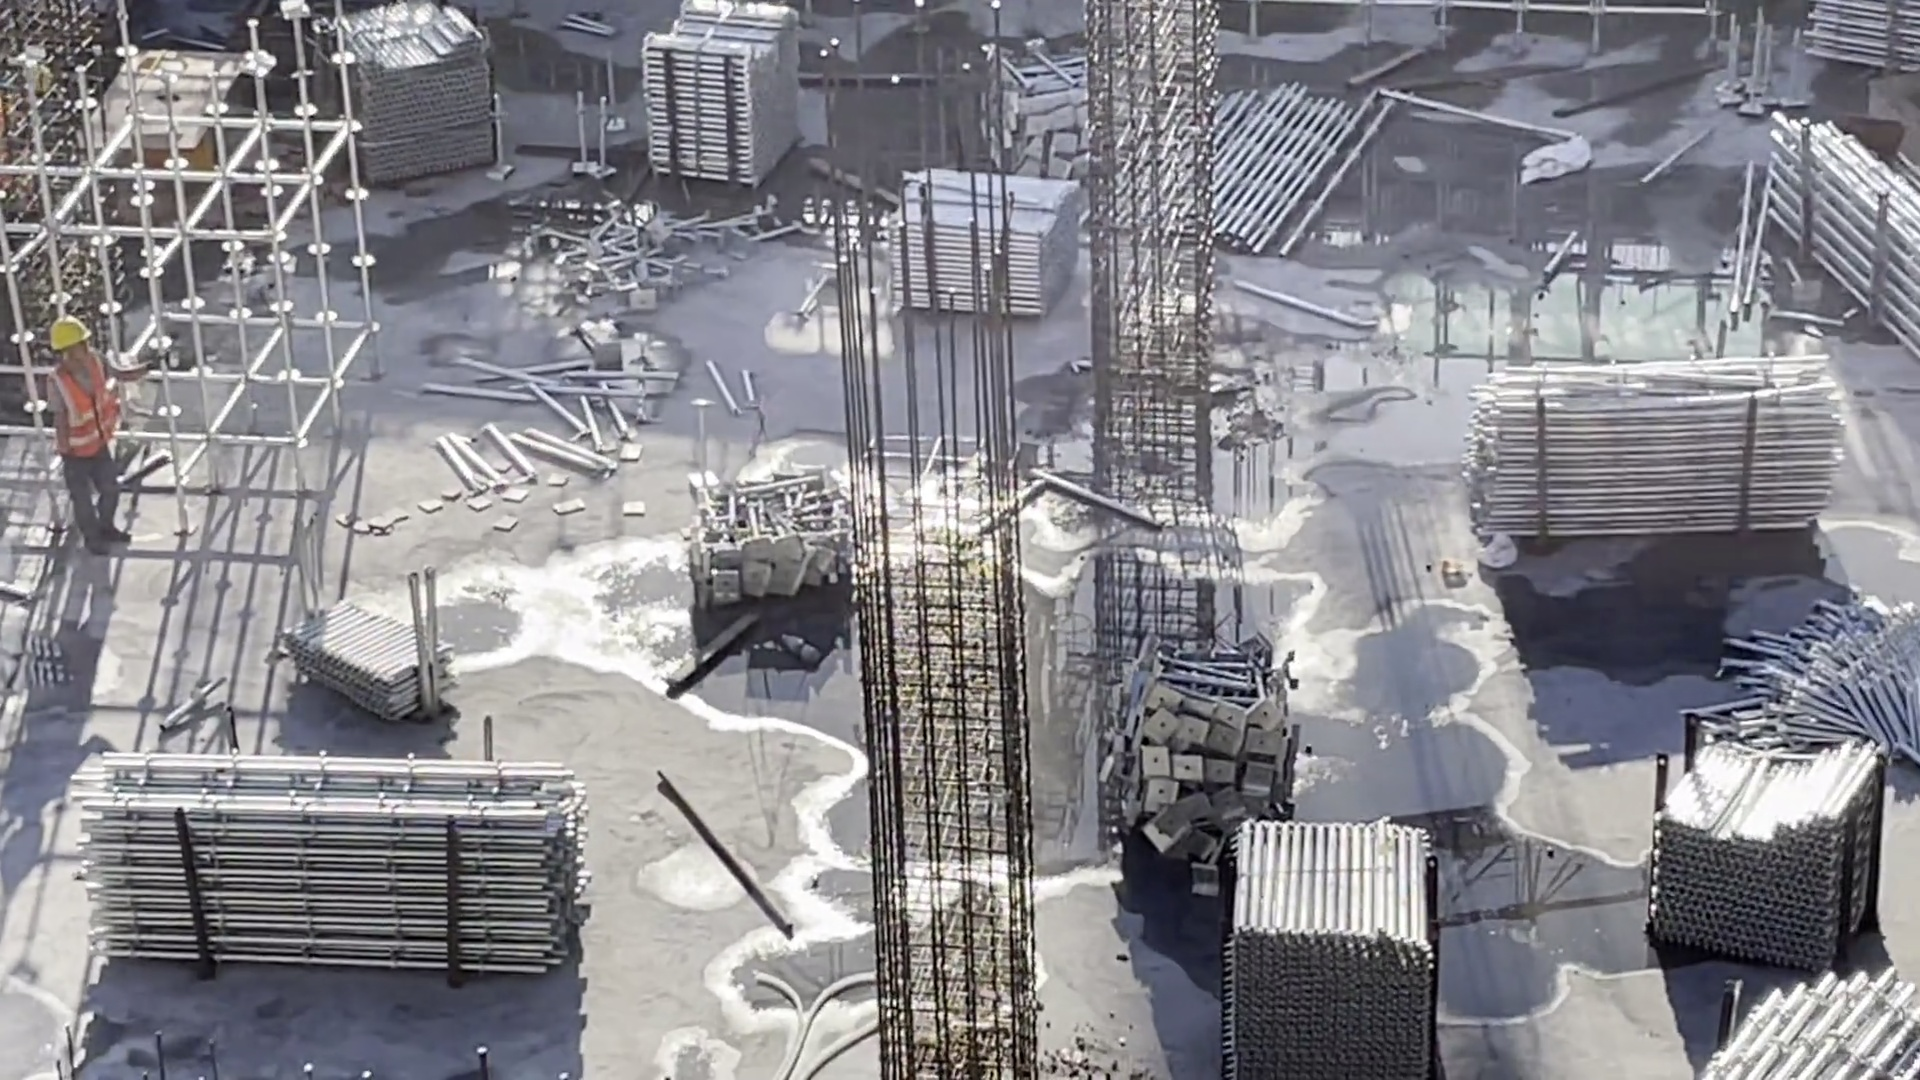cutter: (60, 48, 264, 220)
helmet: (37, 319, 97, 354)
person: (37, 309, 141, 565)
scaffold: (80, 732, 607, 981), (1476, 355, 1826, 547), (1223, 814, 1464, 1080), (1644, 738, 1885, 976), (1106, 650, 1309, 918), (288, 1, 516, 187), (1750, 107, 1920, 335), (882, 150, 1091, 330), (669, 459, 877, 609), (660, 1, 809, 202), (1730, 607, 1920, 754), (1223, 84, 1388, 240), (276, 573, 458, 699), (976, 52, 1123, 195), (1709, 980, 1920, 1079)
vest: (44, 362, 122, 464)
